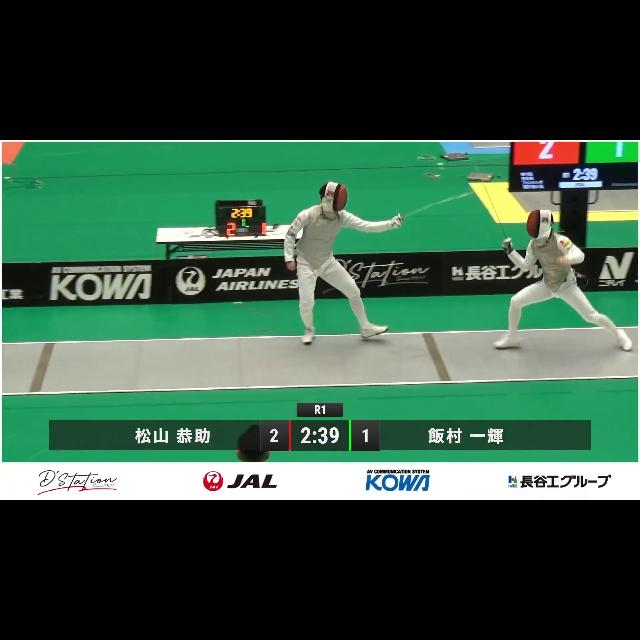blade: (472, 165, 512, 253), (395, 189, 475, 225)
